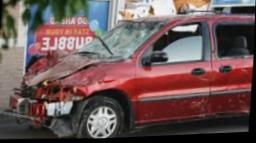Bonnet: (23, 55, 120, 86)
Bumper: (7, 83, 78, 136)
Door: (134, 92, 210, 126), (210, 92, 250, 117)
Fender: (63, 61, 135, 97)
Light: (31, 88, 65, 102)
Windshield: (71, 25, 164, 60)
